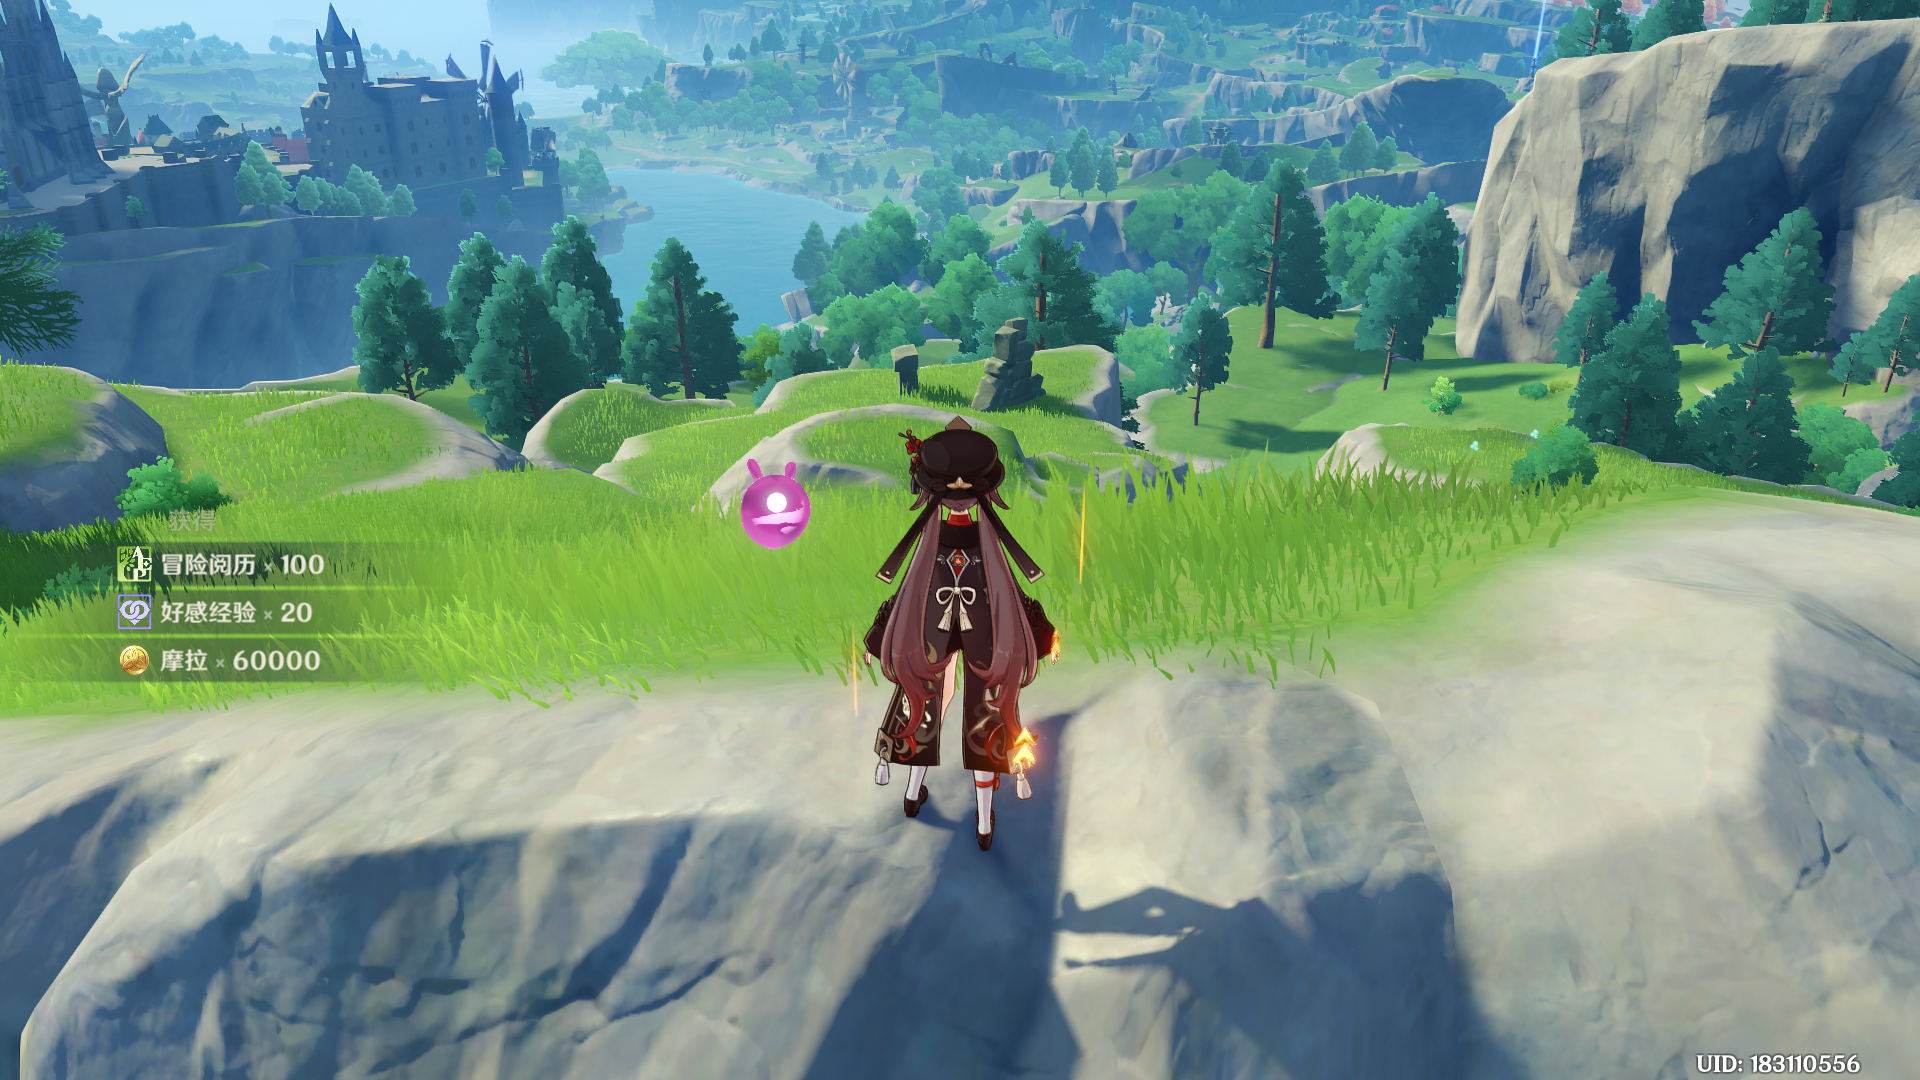character: (843, 392, 1091, 873)
